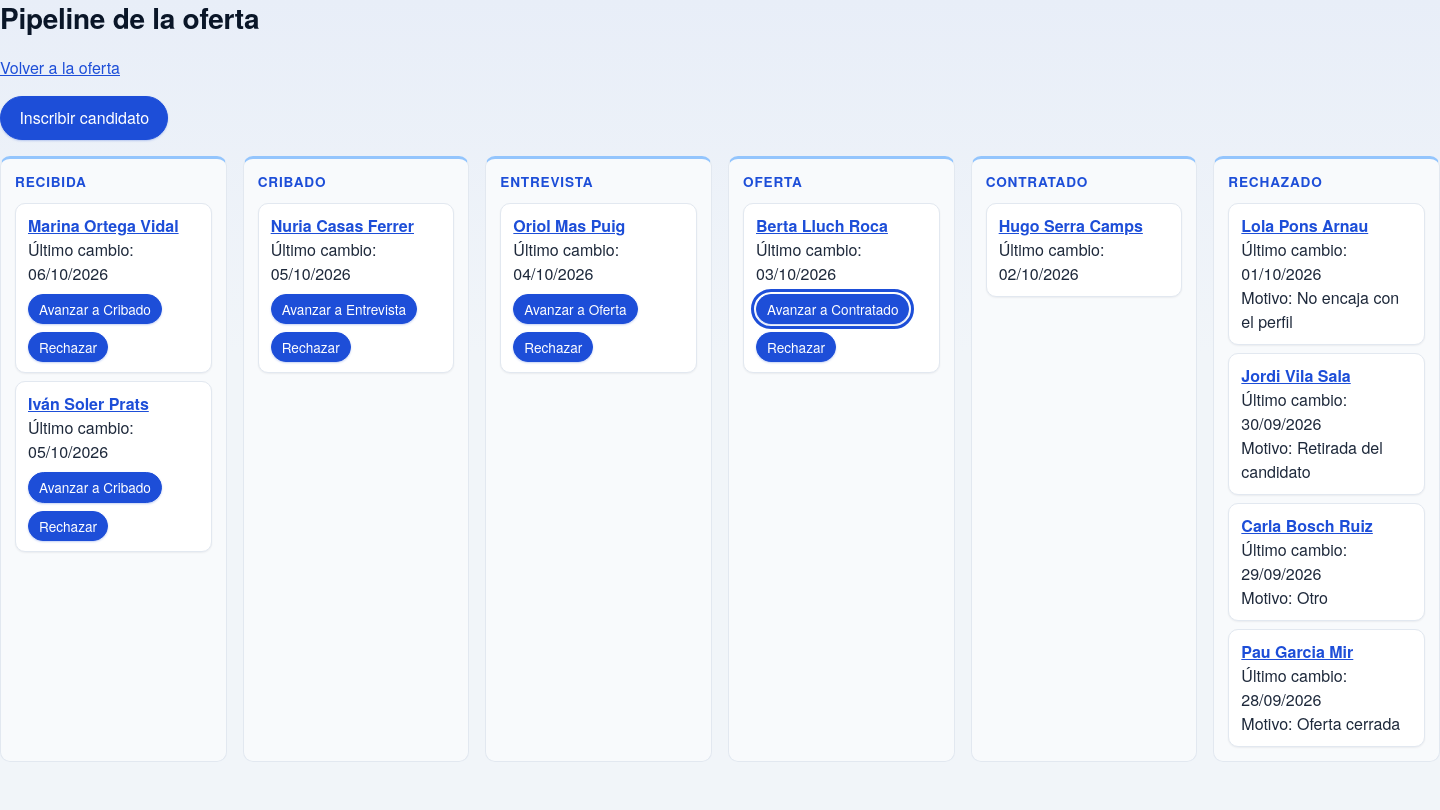
Test case: PipelineScreen: contratar › CA-40 Avanzar a Contratado abre el diálogo con foco en Cancelar; Contratar → tarjeta en Contratado sin acciones
Click the button named "Avanzar a Contratado: Berta Lluch Roca". click: (833,309)
box: [756,294,910,324]
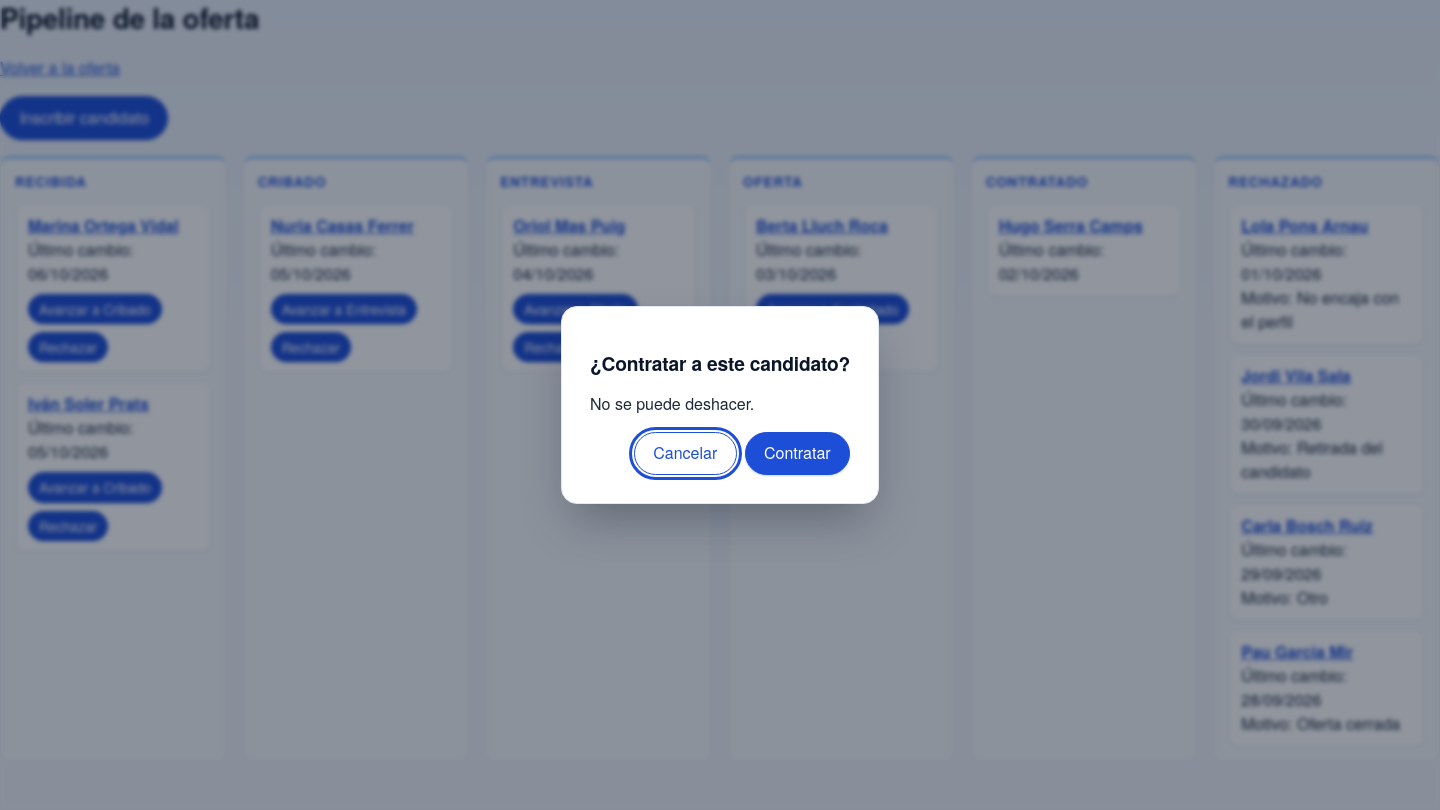
Check: the text "No se puede deshacer." is shown, box [590,392,754,415]
Click the button "Contratar". click: (797,453)
box: [745,432,850,475]
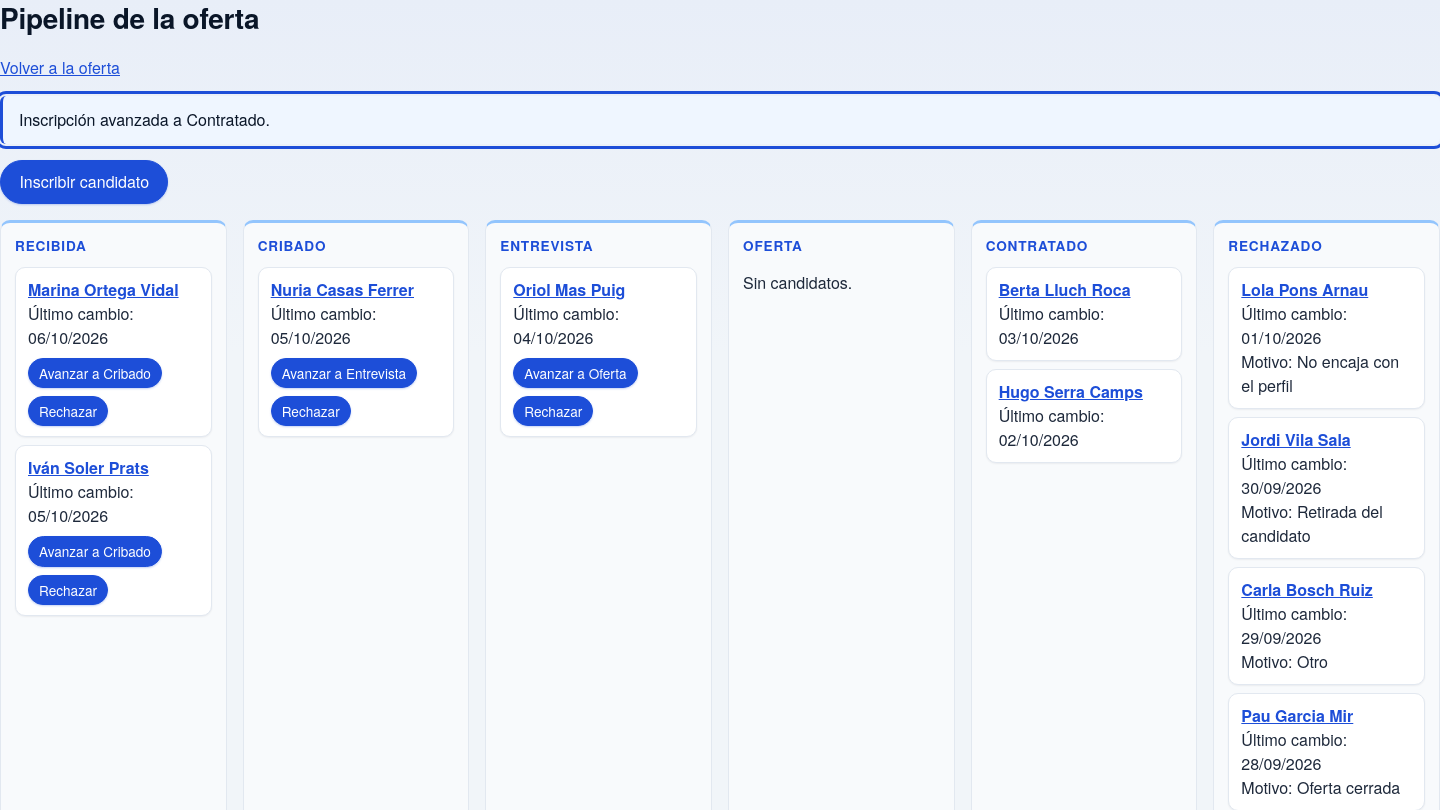
Check: the message reads "Inscripción avanzada a Contratado.", box [19,108,270,131]
Check: no the button "Avanzar a Contratado" are shown
